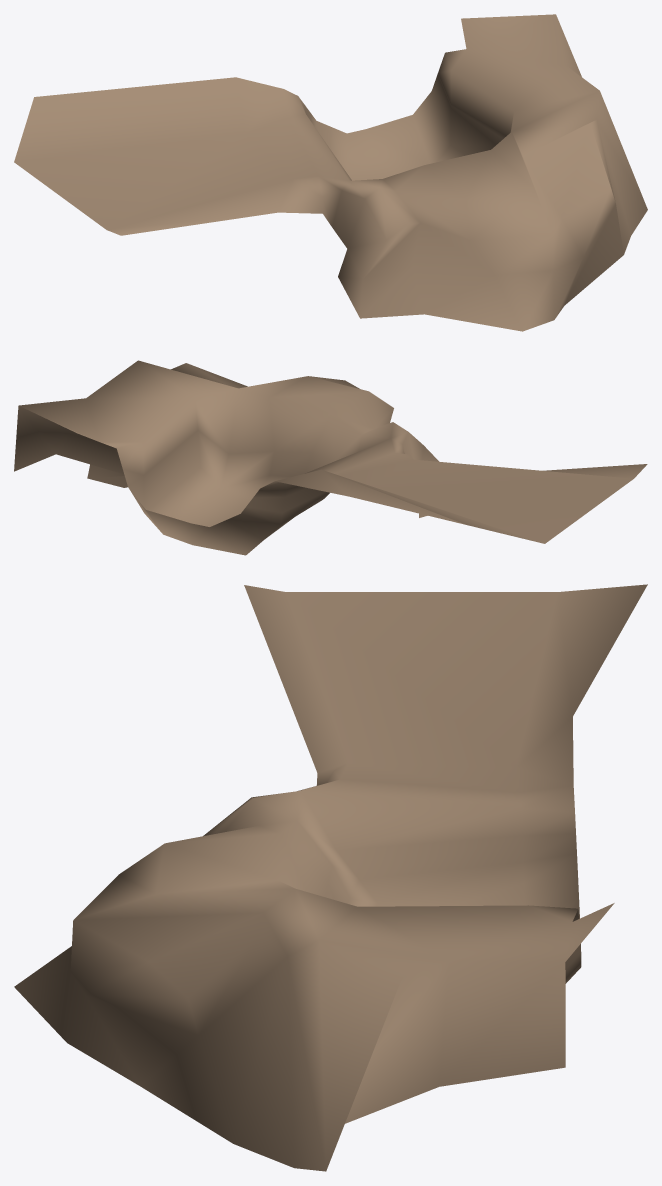
Rendered from Steg_4.fbx.
3 views of the same model, one above another, from view 1: azimuth 30°, elevation 25°; view 2: azimuth 150°, elevation 25°; view 3: azimuth 270°, elevation 25° (orthographic). The views are drawn at different scales.
Parts seen in each view (by area): view 1: Steg_4; view 2: Steg_4; view 3: Steg_4.
Boxes of the visible parts, x1,y1,x2,y2 form: Steg_4: (14, 14, 647, 331); Steg_4: (14, 360, 647, 555); Steg_4: (14, 584, 647, 1171).
Size of the model in its own units: 3522 by 1024 by 2381.
